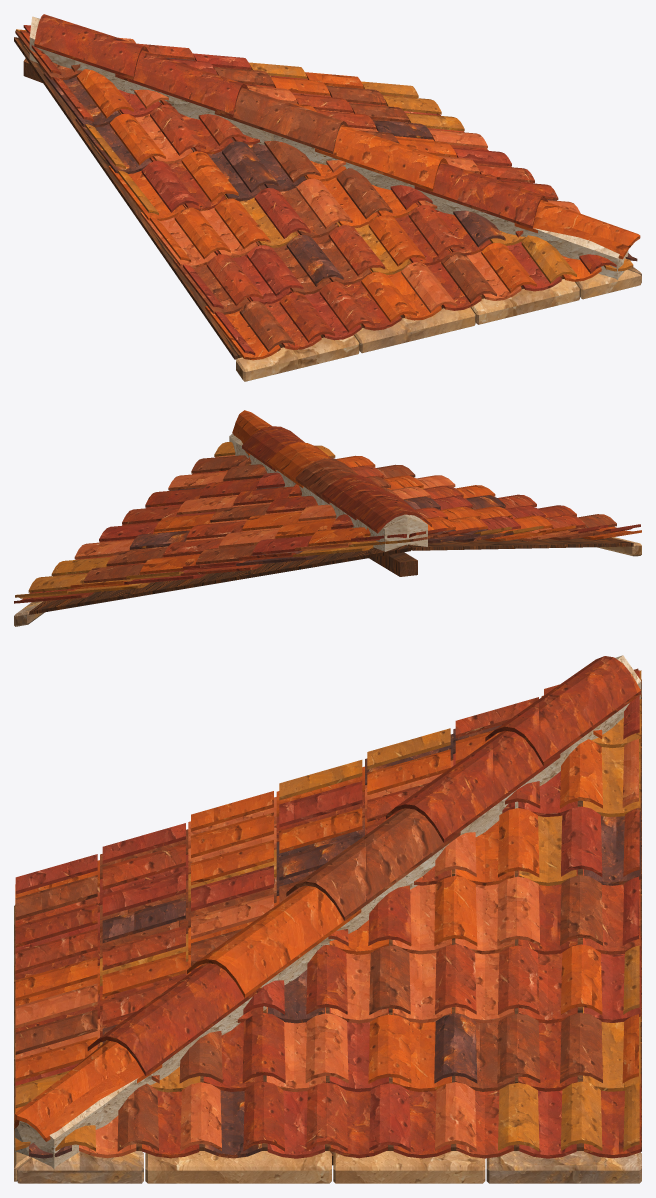
The model's file is roof_26_outer__clay_brick.glb.
3 views of the same model, one above another, from view 1: azimuth 30°, elevation 25°; view 2: azimuth 150°, elevation 25°; view 3: azimuth 270°, elevation 25° (orthographic). The views are drawn at different scales.
Visible parts, largest first — view 1: model; view 2: model; view 3: model.
Part boxes in pixels (<box>): model: <box>14,14,641,381</box>; model: <box>14,410,641,626</box>; model: <box>14,655,641,1183</box>.
Size of the model in its own units: 1.99 by 0.9587 by 1.99.
Materials: 14 (14 with a texture image).
